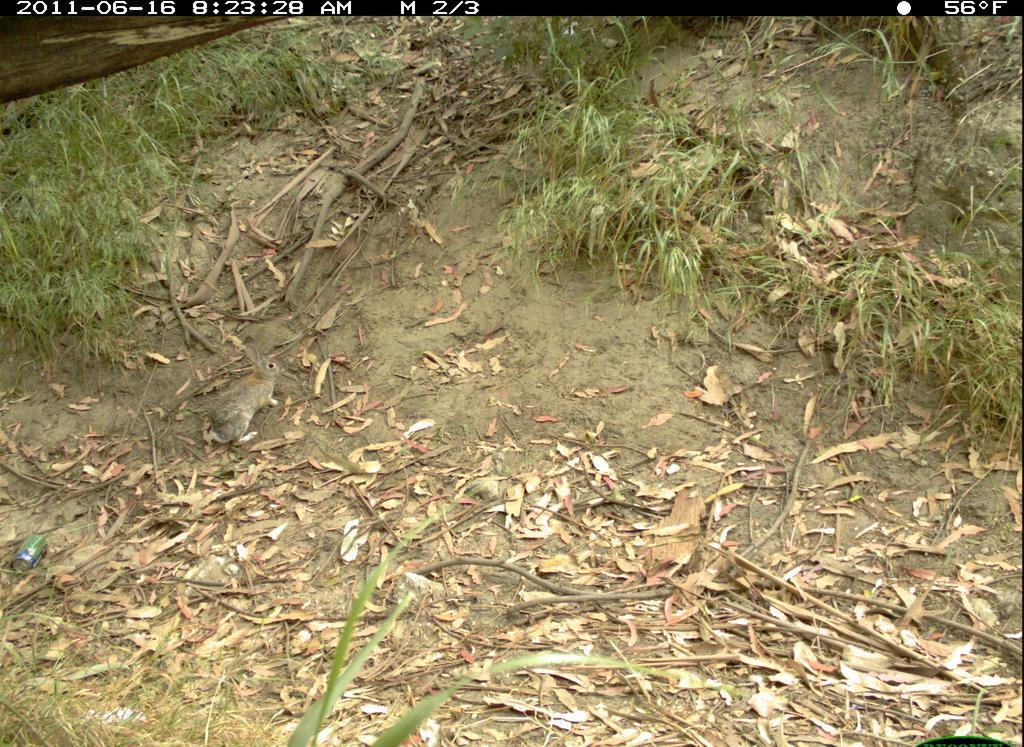rabbit: (195, 336, 290, 456)
